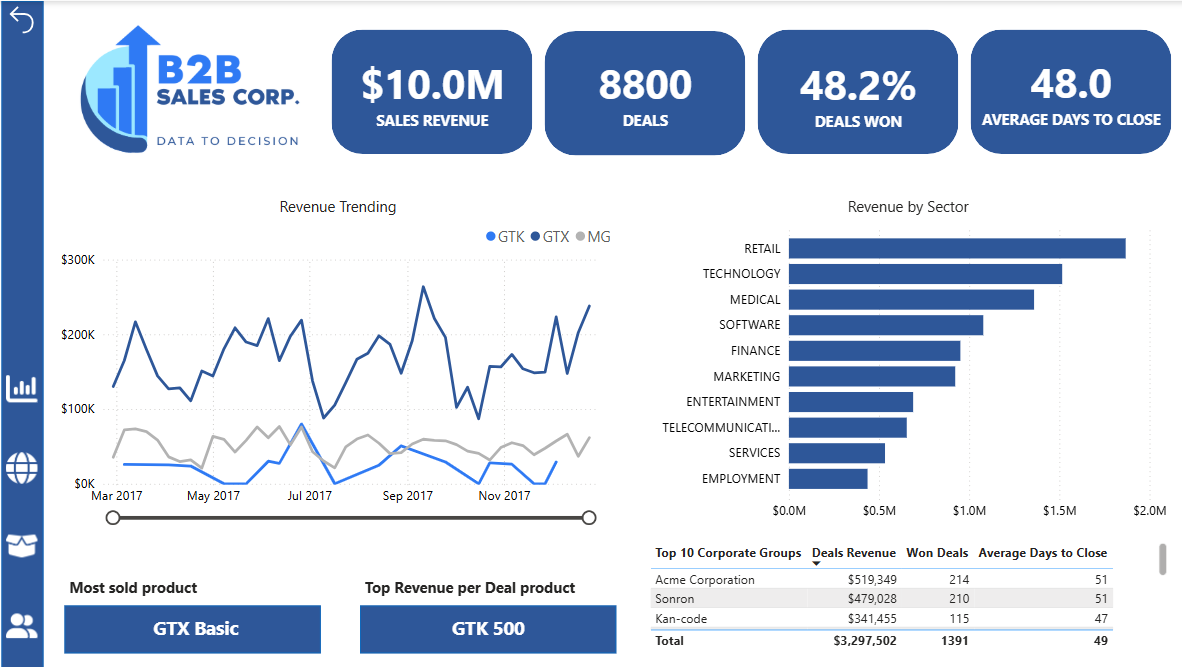

Layout of this report page (visuals, bound fields, positions):
{"tool":"powerbi","page":{"name":"Executive Overview","canvas":[1280,720],"ordinal":0},"visuals":[{"type":"shape","box":[1.6,0,45.3,720.6],"z":0},{"type":"image","box":[60,0,298.3,196.7],"z":1000},{"type":"shape","box":[357.8,30.8,217,134.4],"z":2000},{"type":"card","fields":{"Values":["Measure Table.Total Deal Value"]},"box":[357.8,30.8,217,134.4],"z":3000},{"type":"shape","box":[587.8,32.4,217,134.4],"z":4000},{"type":"card","fields":{"Values":["Measure Table.Total Deals"]},"box":[587.8,30.8,217,134.4],"z":5000},{"type":"shape","box":[817.7,30.8,217,134.4],"z":6000},{"type":"card","fields":{"Values":["Measure Table.% of Won Deals"]},"box":[817.7,32.4,217,132.8],"z":7000},{"type":"shape","box":[1047.6,30.8,217,134.4],"z":8000},{"type":"card","fields":{"Values":["Measure Table.Average Sales Velocity"]},"box":[1047.6,30.8,217,132.8],"z":9000},{"type":"lineChart","title":"Revenue Trending","fields":{"Category":["Calendar_Lookup.Year","Calendar_Lookup.Start of Month","Calendar_Lookup.Start of Week"],"Y":["Measure Table.GTK Value","Measure Table.GTX Value","Measure Table.MG Value"]},"box":[60,210,610,358.3],"z":10000},{"type":"shape","box":[69.7,652.4,276.7,51.7],"z":11000},{"type":"barChart","title":"Revenue by Sector","fields":{"Category":["Company_Lookup.Sector"],"Y":["Measure Table.Total Value"]},"box":[696.7,210,568.3,358.3],"z":12000},{"type":"card","fields":{"Values":["Min(Product_Lookup.ProductName)"]},"box":[76.4,652.4,270,51.7],"z":13000},{"type":"shape","box":[389,652.4,276.7,51.7],"z":14000},{"type":"card","fields":{"Values":["Min(Product_Lookup.ProductName)"]},"box":[392.3,652.4,270,51.7],"z":15000},{"type":"textbox","box":[69.1,616.9,276.9,61.5],"z":16000},{"type":"tableEx","title":"Top 10 Corporate Groups","fields":{"Values":["Company_Lookup.ParentCompany","Measure Table.Total Value","Measure Table.Won Deals","Measure Table.Average Sales Velocity"]},"box":[696.3,579.7,568.3,124.7],"z":17000},{"type":"textbox","box":[388.6,616.9,276.9,61.5],"z":18000},{"type":"image","box":[6.5,388.6,34,59.9],"z":19000},{"type":"image","box":[6.5,473.9,34,59.9],"z":20000},{"type":"image","box":[6.5,559.2,34,59.9],"z":21000},{"type":"image","box":[6.5,644.5,34,59.9],"z":22000},{"type":"actionButton","box":[3.2,0,40.5,40.5],"z":23000}]}

Visuals, with their boxes on the page's 1280x720 design canvas (x1, y1, x2, y2). These are canvas units, not pixel positions in the 1182x667 screenshot, which may show the page scaled, cropped or inside an application window:
shape: crop(2, 0, 47, 721)
image: crop(60, 0, 358, 197)
shape: crop(358, 31, 575, 165)
card - Measure Table.Total Deal Value: crop(358, 31, 575, 165)
shape: crop(588, 32, 805, 167)
card - Measure Table.Total Deals: crop(588, 31, 805, 165)
shape: crop(818, 31, 1035, 165)
card - Measure Table.% of Won Deals: crop(818, 32, 1035, 165)
shape: crop(1048, 31, 1265, 165)
card - Measure Table.Average Sales Velocity: crop(1048, 31, 1265, 164)
"Revenue Trending" lineChart: crop(60, 210, 670, 568)
shape: crop(70, 652, 346, 704)
"Revenue by Sector" barChart: crop(697, 210, 1265, 568)
card - Min(Product_Lookup.ProductName): crop(76, 652, 346, 704)
shape: crop(389, 652, 666, 704)
card - Min(Product_Lookup.ProductName): crop(392, 652, 662, 704)
textbox: crop(69, 617, 346, 678)
"Top 10 Corporate Groups" tableEx: crop(696, 580, 1265, 704)
textbox: crop(389, 617, 666, 678)
image: crop(6, 389, 40, 448)
image: crop(6, 474, 40, 534)
image: crop(6, 559, 40, 619)
image: crop(6, 644, 40, 704)
actionButton: crop(3, 0, 44, 40)
